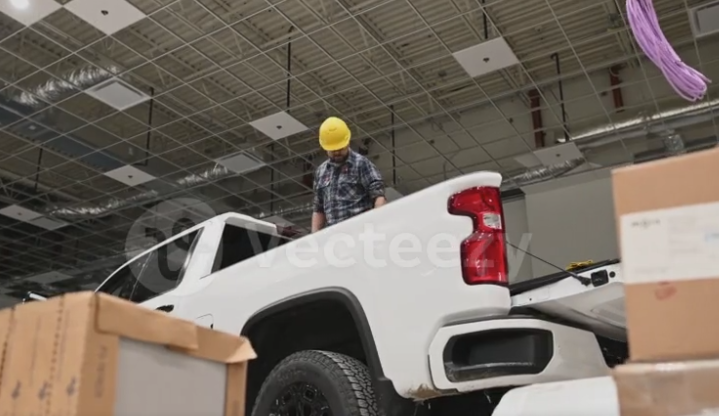safety_helmet: (318, 116, 352, 152)
